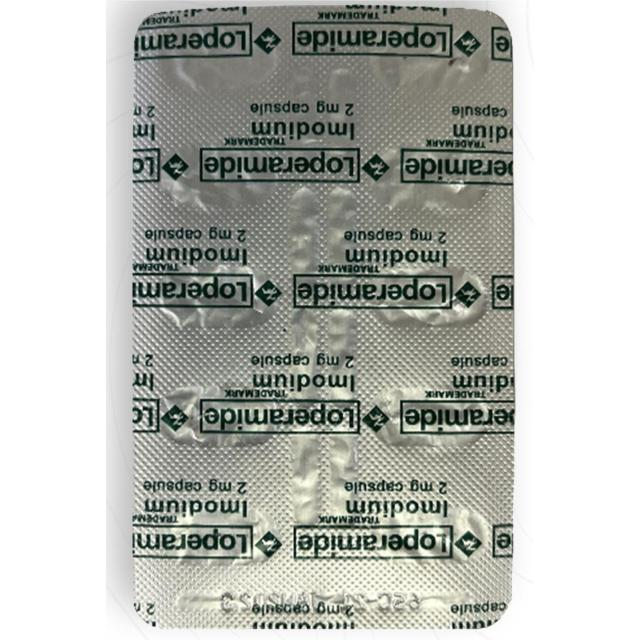blister: (130, 1, 520, 628)
